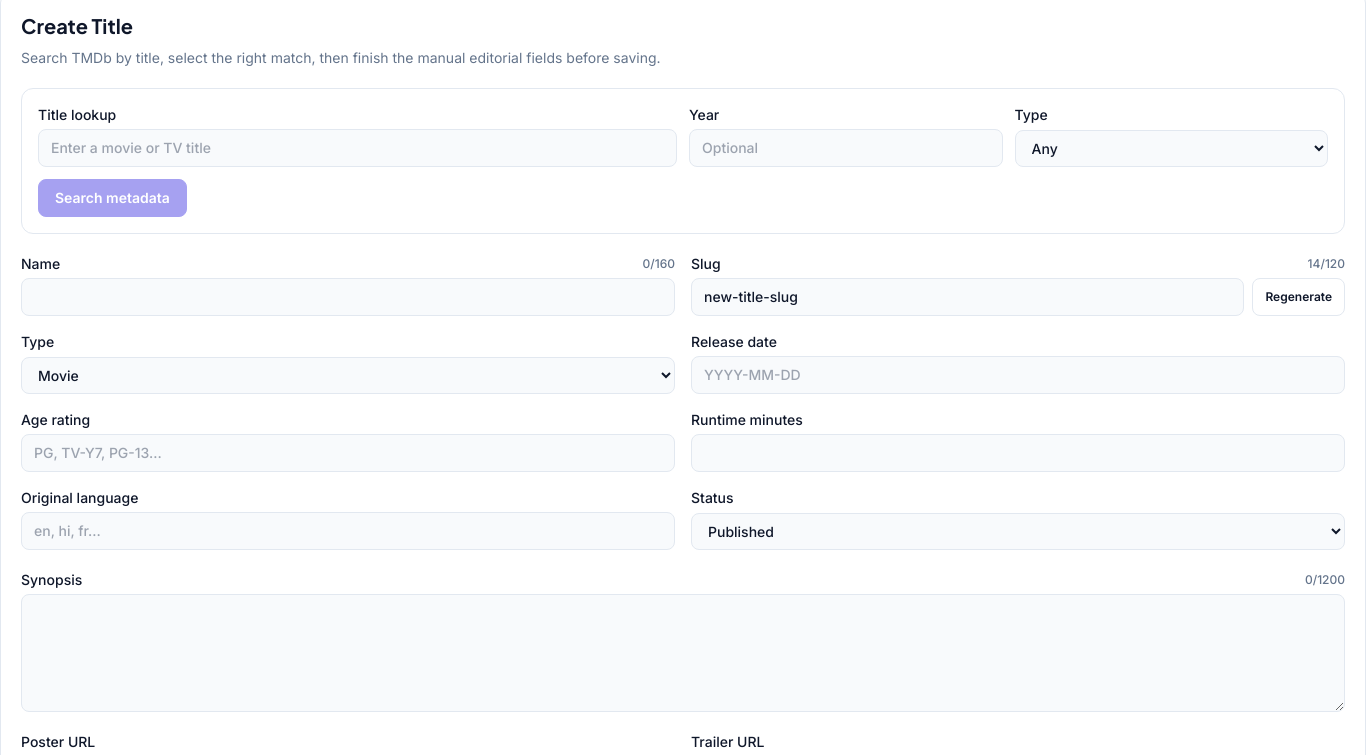
Test case: AdminTitleForm › warns when metadata does not include a verified Rotten Tomatoes URL
Type "A Beautiful Breakup" into the field labelled "Title lookup" at (358,148), box [38,129,677,167]
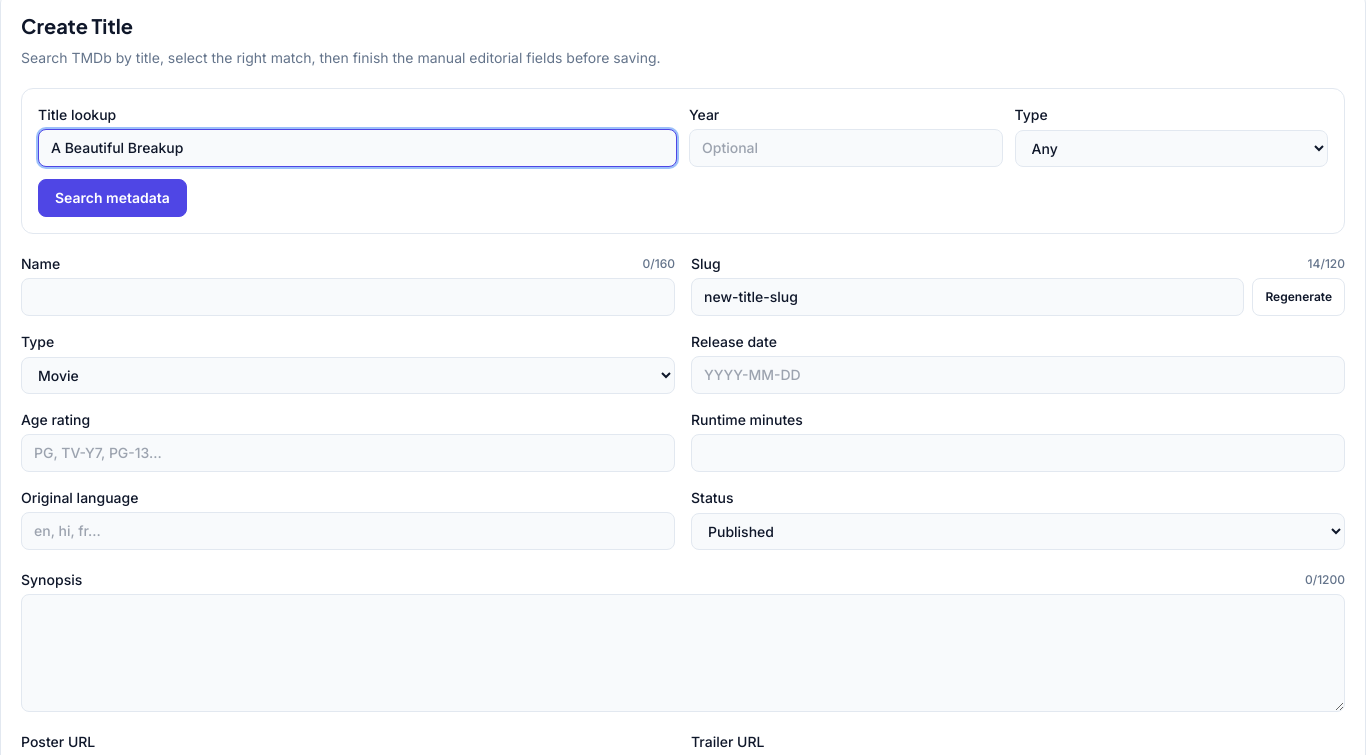
Click the button "Search metadata" at (112,198), box [38,179,187,217]
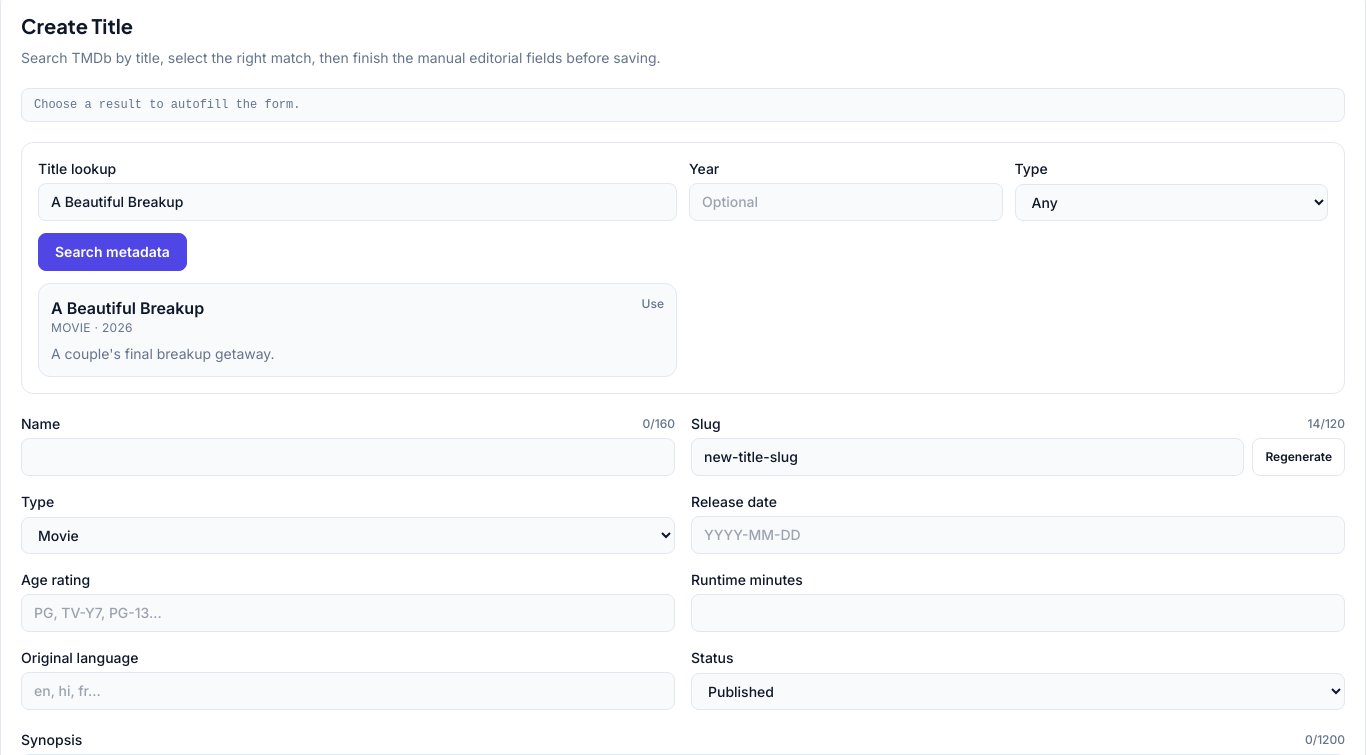
Click the button "A Beautiful Breakup" at (128,308), box [38,283,677,377]
(page scrolled)
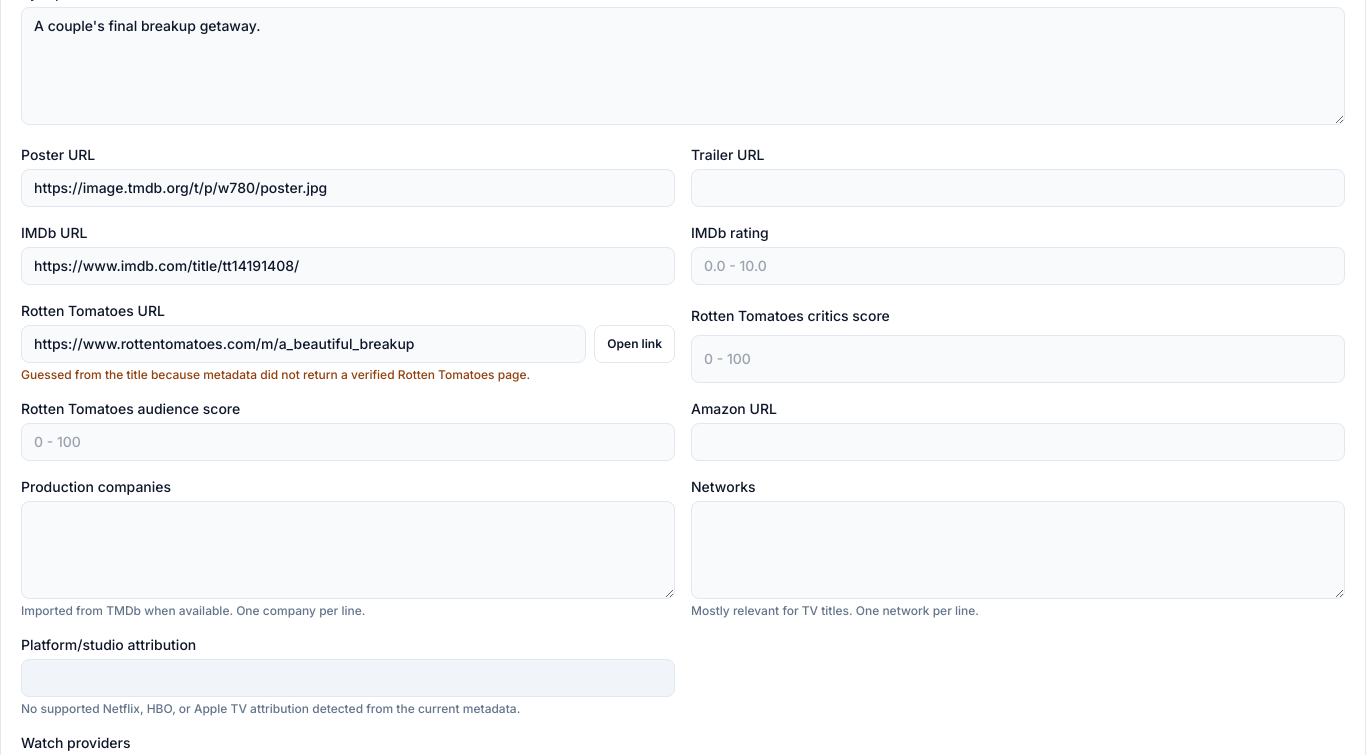
Check: the field labelled "Rotten Tomatoes URL" holds "https://www.rottentomatoes.com/m/a_beautiful_breakup", box [21,325,586,363]
Check: the text "Guessed from the title because metadata did not return a verified Rotten Tomatoes page." is shown, box [21,367,530,382]
